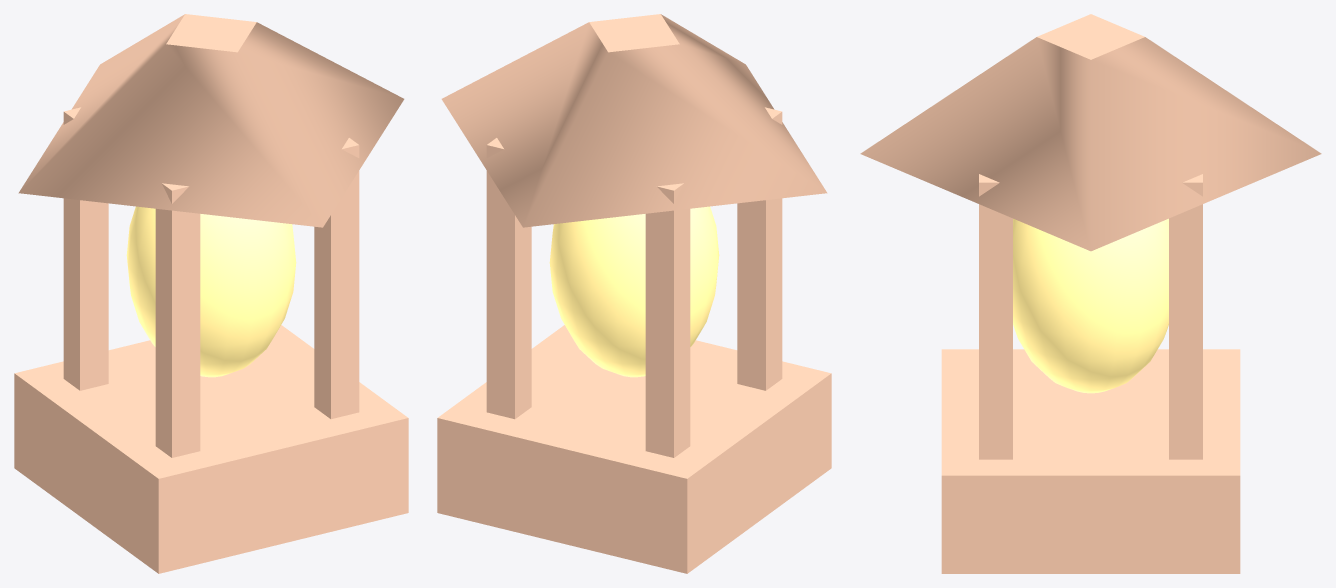
File: st_dream_lantern.glb
3 views of the same model, side by side, from view 1: azimuth 30°, elevation 25°; view 2: azimuth 150°, elevation 25°; view 3: azimuth 270°, elevation 25° (orthographic). The views are drawn at different scales.
Visible parts, largest first — view 1: Glowing_Lantern; view 2: Glowing_Lantern; view 3: Glowing_Lantern.
Boxes of the visible parts, box(x1,y1,x2,y2) form: Glowing_Lantern: box(14, 14, 408, 573); Glowing_Lantern: box(437, 14, 831, 573); Glowing_Lantern: box(860, 14, 1321, 573).
Bounding box in the file's own units: 0.68 × 0.77 × 0.68.
